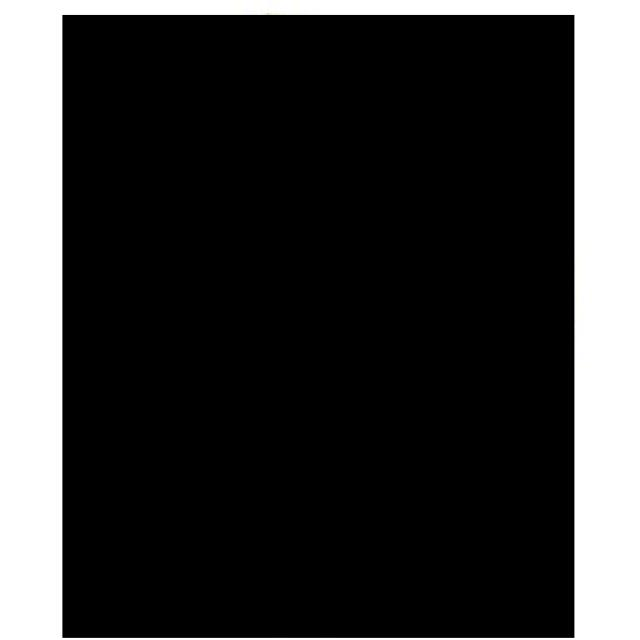Palak: (62, 17, 575, 640)
